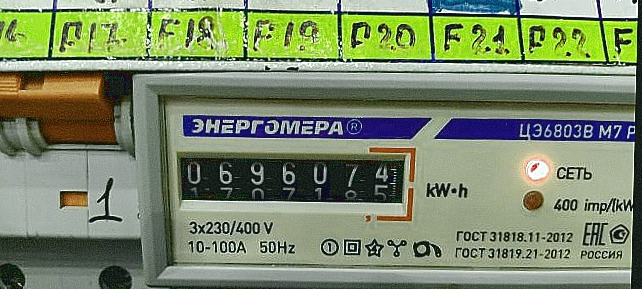0: (183, 159, 203, 184), (310, 159, 328, 185)
4: (372, 159, 389, 182)
5: (372, 182, 388, 203)
6: (278, 158, 297, 185), (215, 159, 234, 184)
7: (342, 161, 359, 187)
9: (247, 158, 264, 185)
screen: (164, 138, 419, 224)
